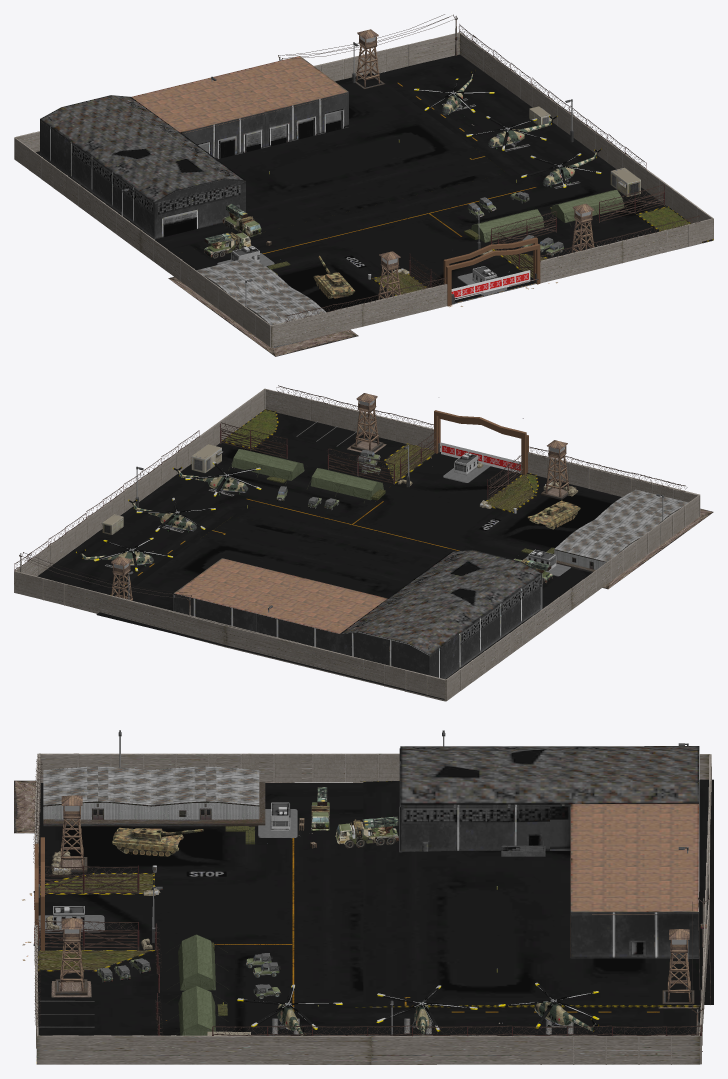
Rendered from military_base_1_-_truck_masters_india_simulator.glb.
3 views of the same model, one above another, from view 1: azimuth 30°, elevation 25°; view 2: azimuth 150°, elevation 25°; view 3: azimuth 270°, elevation 25° (orthographic). The views are drawn at different scales.
Visible parts, largest first — view 1: AO_Texture_warehouse_03, Building_001, Slope_AO, Wall_LOD, wharehouse_03_BUILDING_LOD, Army_Building__1_, Army_Building, Arch, Tree_Base__3_, Tent__1_, Tent_Lod, grass_001 (+12 smaller); view 2: AO_Texture_warehouse_03, Building_001, Slope_AO, Wall_LOD, Army_Building__1_, Army_Building, Arch, grass_001, wharehouse_03_BUILDING_LOD, grass_001_1, grass_001__1__1, Tree_Base__3_ (+14 smaller); view 3: AO_Texture_warehouse_03, Slope_AO, Building_001, Wall_LOD, wharehouse_03_BUILDING_LOD, Army_Building__1_, Army_Building, Tree_Base__3_, Tanker, grass_001_1, grass_001__1__1, Tent (+22 smaller).
Boxes of the visible parts, x1,y1,x2,y2 form: AO_Texture_warehouse_03: (169,54,666,346); Building_001: (40,56,348,238); Slope_AO: (36,73,500,250); Wall_LOD: (15,32,713,347); wharehouse_03_BUILDING_LOD: (40,93,348,239); Army_Building__1_: (196,257,290,300); Army_Building: (237,287,325,325); Arch: (443,237,540,306); Tree_Base__3_: (168,277,358,356); Tent__1_: (547,189,627,226); Tent_Lod: (471,218,543,242); grass_001: (636,206,713,242); AO_Texture_warehouse_03: (37,412,621,599); Building_001: (173,549,542,675); Slope_AO: (96,519,554,699); Wall_LOD: (15,388,699,700); Army_Building__1_: (554,519,647,569); Army_Building: (595,489,688,531); Arch: (434,410,528,474); grass_001: (221,409,278,448); wharehouse_03_BUILDING_LOD: (173,595,461,678); grass_001_1: (384,443,436,483); grass_001__1__1: (486,474,534,512); Tree_Base__3_: (554,508,713,589); AO_Texture_warehouse_03: (37,783,700,1035); Slope_AO: (363,779,713,1006); Building_001: (400,746,699,958); Wall_LOD: (34,753,710,1064); wharehouse_03_BUILDING_LOD: (399,748,698,958); Army_Building__1_: (151,766,259,819); Army_Building: (43,766,151,819); Tree_Base__3_: (14,780,294,833); Tanker: (112,827,203,856); grass_001_1: (38,950,154,971); grass_001__1__1: (40,873,154,894); Tent: (165,935,228,990).
Size of what is drawn, in the model's own units: 104 by 13.26 by 108.
Materials: 19 (18 with a texture image).
